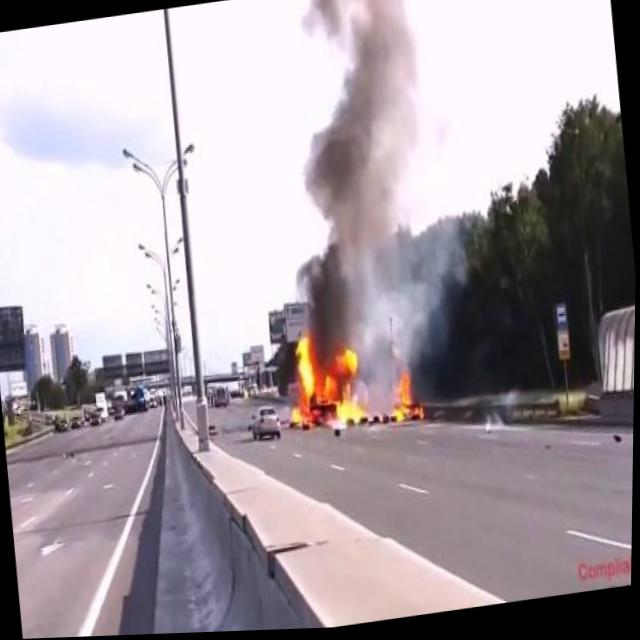fire: (282, 325, 373, 441), (387, 369, 428, 431)
